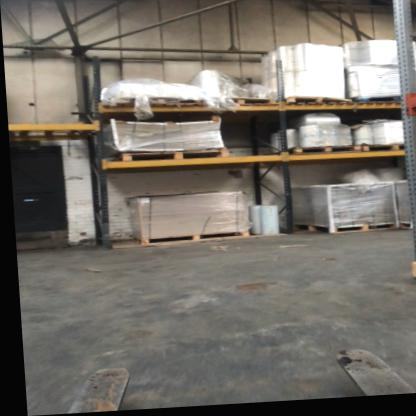vertical_damage: (96, 213, 113, 234)
